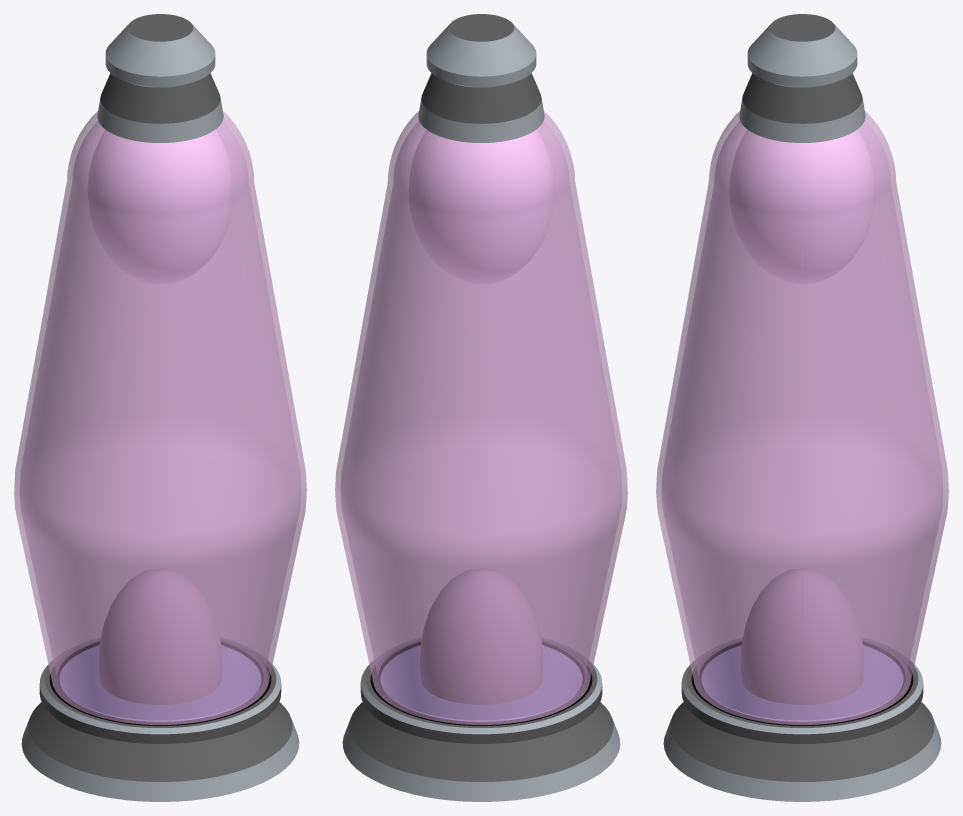
The model's file is Lavalamp5.fbx.
3 renders of one model, left to right at view 1: azimuth 30°, elevation 25°; view 2: azimuth 150°, elevation 25°; view 3: azimuth 270°, elevation 25°, orthographic.
Visible parts, largest first — view 1: _glass5, __base, lava_top, lava_bottom, __top; view 2: _glass5, __base, lava_top, lava_bottom, __top; view 3: _glass5, __base, lava_top, lava_bottom, __top.
Part boxes in pixels (x1=…): _glass5: x1=14, y1=111, x2=306, y2=724; __base: x1=21, y1=641, x2=299, y2=801; lava_top: x1=87, y1=130, x2=233, y2=284; lava_bottom: x1=99, y1=568, x2=221, y2=704; __top: x1=97, y1=14, x2=223, y2=142; _glass5: x1=335, y1=111, x2=627, y2=724; __base: x1=342, y1=641, x2=620, y2=801; lava_top: x1=409, y1=130, x2=554, y2=284; lava_bottom: x1=420, y1=568, x2=542, y2=704; __top: x1=418, y1=14, x2=544, y2=142; _glass5: x1=656, y1=111, x2=948, y2=724; __base: x1=663, y1=641, x2=941, y2=801; lava_top: x1=729, y1=130, x2=875, y2=284; lava_bottom: x1=740, y1=568, x2=863, y2=704; __top: x1=739, y1=14, x2=865, y2=142.
Size of the model in its own units: 0.887 by 2.42 by 0.887.
